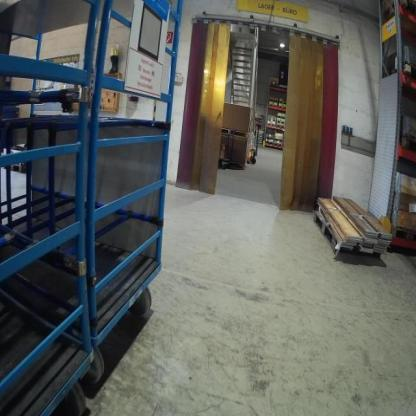pallet: (311, 212, 381, 260), (221, 126, 251, 138), (394, 226, 414, 240), (274, 137, 284, 143), (274, 143, 283, 148), (270, 81, 279, 86), (266, 140, 273, 146), (279, 105, 287, 110), (277, 114, 285, 119), (268, 118, 276, 123), (277, 124, 285, 129), (266, 135, 274, 140), (269, 104, 277, 108), (277, 120, 285, 124), (268, 123, 276, 127)
pallet_truck: (247, 114, 266, 166)
